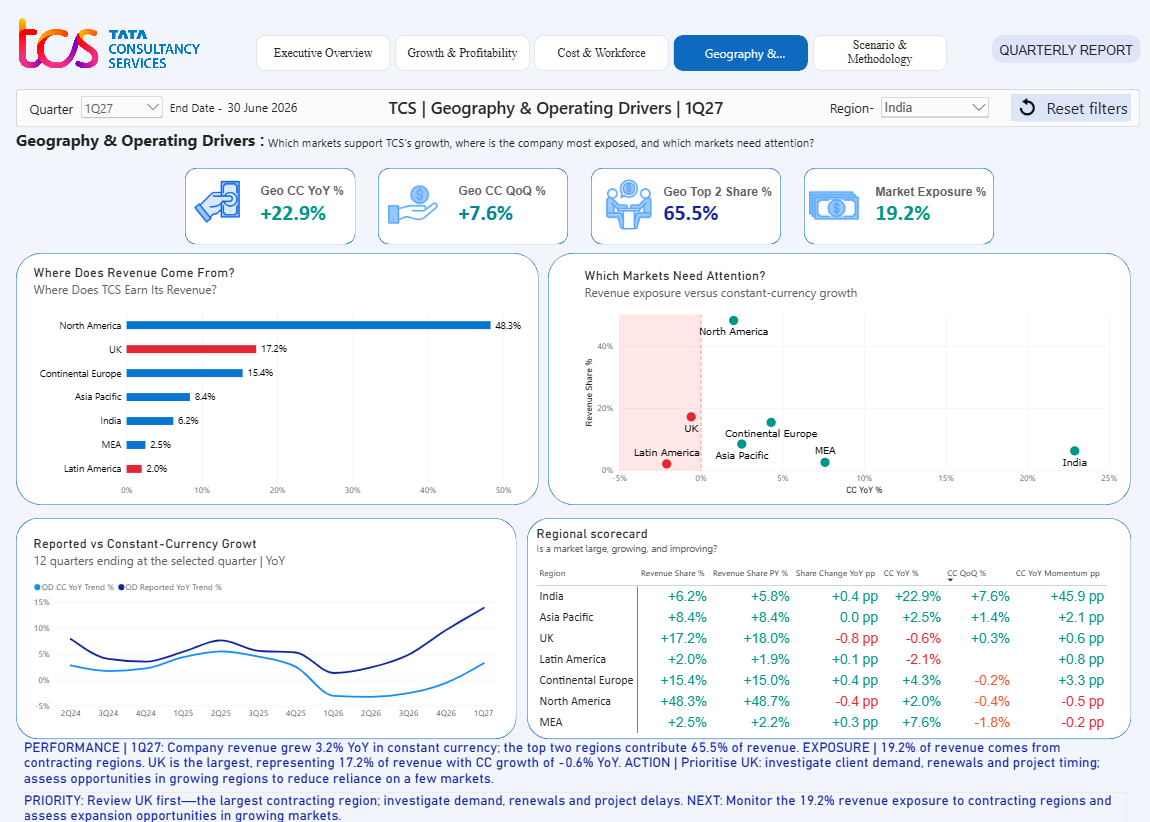

Layout of this report page (visuals, bound fields, positions):
{"tool":"powerbi","page":{"name":"Geography & Operating Drivers","canvas":[1920,1380],"ordinal":3},"visuals":[{"type":"shape","box":[310,281.7,284.3,127.5],"z":0,"group":"g2"},{"type":"shape","box":[880,864.3,1007.1,368.6],"z":0},{"type":"shape","box":[632.4,281.7,316.8,127.5],"z":1000,"group":"g2"},{"type":"shape","box":[914.3,422.9,971.4,420],"z":1000},{"type":"shape","box":[987.3,281.7,316.8,127.5],"z":2000,"group":"g2"},{"type":"shape","box":[28.6,422.9,871.4,420],"z":2000},{"type":"shape","box":[29.1,149.5,1873.3,63.3],"z":3000},{"type":"shape","box":[1342.3,281.7,316.8,127.5],"z":3000,"group":"g2"},{"type":"image","box":[20,0,328.3,148.3],"z":4000},{"type":"pageNavigator","box":[429.1,60.7,1154.6,60.3],"z":5000},{"type":"slicer","fields":{"Values":["DimQuarter.PERIOD"]},"box":[131.5,157.5,145.9,54.9],"z":6000},{"type":"textbox","box":[49.1,167.6,83.3,34.5],"z":7000},{"type":"actionButton","box":[1687.4,157.7,199.1,46.1],"z":8000},{"type":"textbox","box":[1687.1,158.2,199.6,45.7],"z":8000,"group":"g1"},{"type":"group","id":"g1","title":"Group 1","box":[1687.1,158.2,199.6,45.7],"z":9000},{"type":"image","box":[1694.1,165.6,40.9,29.1],"z":9000,"group":"g1"},{"type":"textbox","box":[28,216,440,84],"z":10000},{"type":"cardVisual","fields":{"Data":["_m3.Geography Page Title"]},"box":[632.8,148.8,752.7,63.6],"z":11000},{"type":"cardVisual","fields":{"Data":["Min(DimQuarter.QuarterEndDate)"]},"box":[365,148.1,206.7,63.3],"z":12000},{"type":"textbox","box":[278.3,168.3,100,34.4],"z":13000},{"type":"shape","box":[1654.4,60.6,247.8,46.7],"z":14000},{"type":"textbox","box":[1638.3,75,280,31.7],"z":15000},{"type":"textbox","box":[448,226,932,40],"z":16000},{"type":"group","id":"g2","title":"Group 2","box":[310,281.7,1348.3,126.7],"z":17000},{"type":"cardVisual","fields":{"Data":["_m3.Geo CC QoQ %"]},"box":[750,291.7,198.3,106.7],"z":18000},{"type":"slicer","fields":{"Values":["DimGeography.Region"]},"box":[1465,157.5,190,63.8],"z":19000},{"type":"textbox","box":[1380,166.2,83.3,34.5],"z":20000},{"type":"cardVisual","fields":{"Data":["_m3.Geo CC YoY %"]},"box":[420,291.7,175,106.7],"z":21000},{"type":"cardVisual","fields":{"Data":["_m3.Geo Top 2 Share %"]},"box":[1091.4,291.4,230,107.1],"z":22000},{"type":"cardVisual","fields":{"Data":["_m3.Geo Contracting Market Exposure %"]},"box":[1445.7,291.4,227.1,107.1],"z":23000},{"type":"image","box":[1350,301.4,82.9,84.3],"z":24000},{"type":"image","box":[648.6,300,82.9,84.3],"z":25000},{"type":"image","box":[322.9,300,80,75.7],"z":26000},{"type":"image","box":[1008.6,300,82.9,84.3],"z":27000},{"type":"barChart","title":"Where Does Revenue Come From?","fields":{"Category":["DimGeography.Region"],"Y":["Sum(Factgeography.RevenueShare)"]},"box":[41.4,430,858.6,420],"z":28000},{"type":"scatterChart","title":"Which Markets Need Attention?","fields":{"X":["_m3.Geo CC YoY %"],"Y":["_m3.Geo Revenue Share %"],"Category":["DimGeography.Region"]},"box":[960,435.7,920,407.1],"z":29000},{"type":"pivotTable","title":"Regional scorecard","fields":{"Rows":["DimGeography.Region"],"Values":["_m3.Geo Revenue Share %","_m3.Geo Revenue Share PY %","_m3.Geo Share Change YoY pp","_m3.Geo CC YoY %","_m3.Geo CC QoQ %","_m3.Geo CC YoY Momentum pp"]},"box":[880,864.3,1000,382.9],"z":30000},{"type":"shape","box":[28.6,864.3,834.3,368.6],"z":31000},{"type":"lineChart","title":"Reported vs Constant-Currency Growt","fields":{"Category":["AxisQuarter.PERIOD"],"Y":["_m3.OD CC YoY Trend %","_m3.OD Reported YoY Trend %"]},"box":[41.4,881.4,807.1,340],"z":32000},{"type":"textbox","box":[41.7,1233.3,1843.3,133.3],"z":33000},{"type":"textbox","box":[41.7,1321.7,1838.3,58.3],"z":34000}]}

Visuals, with their boxes in screenshot pixels (x1, y1, x2, y2), scaled from the page's 1920x1380 canvas onto the 1150x822 screenshot:
shape: 186, 168, 356, 244
shape: 527, 515, 1130, 734
shape: 379, 168, 569, 244
shape: 548, 252, 1129, 502
shape: 591, 168, 781, 244
shape: 17, 252, 539, 502
shape: 17, 89, 1139, 127
shape: 804, 168, 994, 244
image: 12, 0, 209, 88
pageNavigator: 257, 36, 949, 72
slicer - DimQuarter.PERIOD: 79, 94, 166, 127
textbox: 29, 100, 79, 120
actionButton: 1011, 94, 1130, 121
textbox: 1011, 94, 1130, 121
"Group 1" group: 1011, 94, 1130, 121
image: 1015, 99, 1039, 116
textbox: 17, 129, 280, 179
cardVisual - _m3.Geography Page Title: 379, 89, 830, 127
cardVisual - Min(DimQuarter.QuarterEndDate): 219, 88, 342, 126
textbox: 167, 100, 227, 121
shape: 991, 36, 1139, 64
textbox: 981, 45, 1149, 64
textbox: 268, 135, 827, 158
"Group 2" group: 186, 168, 993, 243
cardVisual - _m3.Geo CC QoQ %: 449, 174, 568, 237
slicer - DimGeography.Region: 877, 94, 991, 132
textbox: 827, 99, 876, 120
cardVisual - _m3.Geo CC YoY %: 252, 174, 356, 237
cardVisual - _m3.Geo Top 2 Share %: 654, 174, 791, 237
cardVisual - _m3.Geo Contracting Market Exposure %: 866, 174, 1002, 237
image: 809, 180, 858, 230
image: 388, 179, 438, 229
image: 193, 179, 241, 224
image: 604, 179, 654, 229
"Where Does Revenue Come From?" barChart: 25, 256, 539, 506
"Which Markets Need Attention?" scatterChart: 575, 260, 1126, 502
"Regional scorecard" pivotTable: 527, 515, 1126, 743
shape: 17, 515, 517, 734
"Reported vs Constant-Currency Growt" lineChart: 25, 525, 508, 728
textbox: 25, 735, 1129, 814
textbox: 25, 787, 1126, 821
